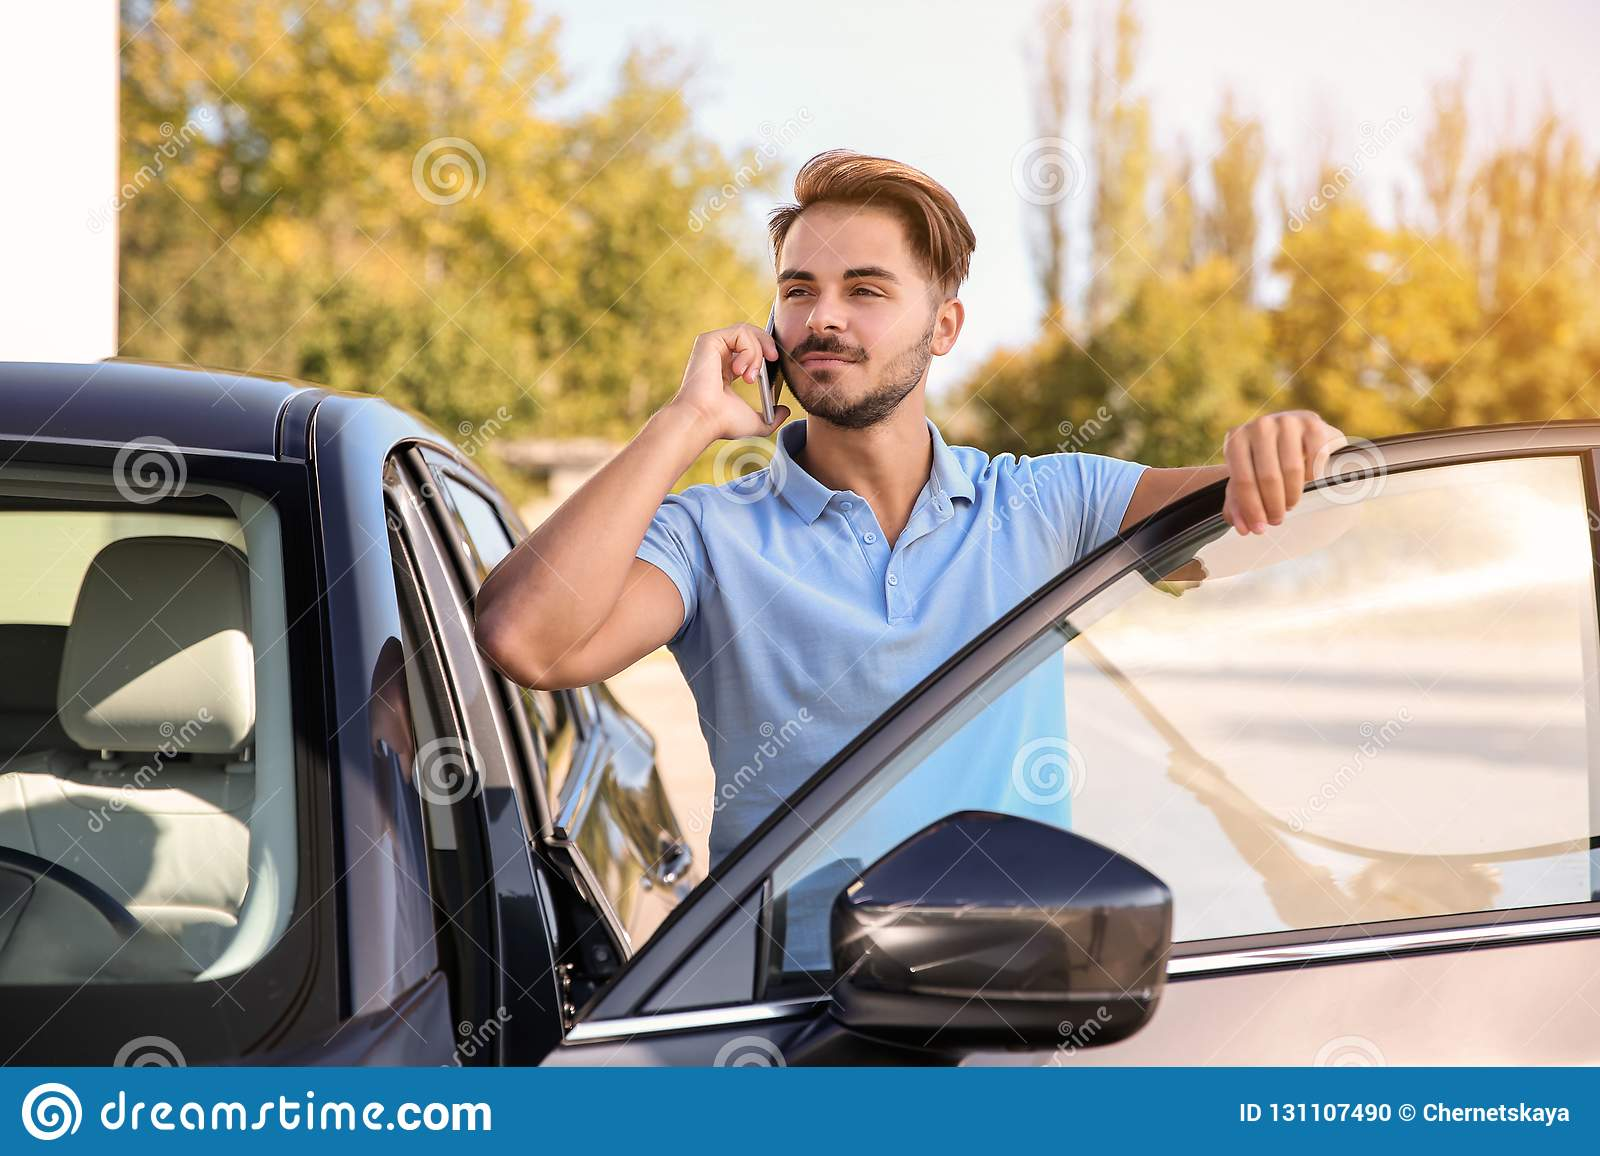phone: (745, 305, 791, 445)
talk: (680, 260, 908, 454)
